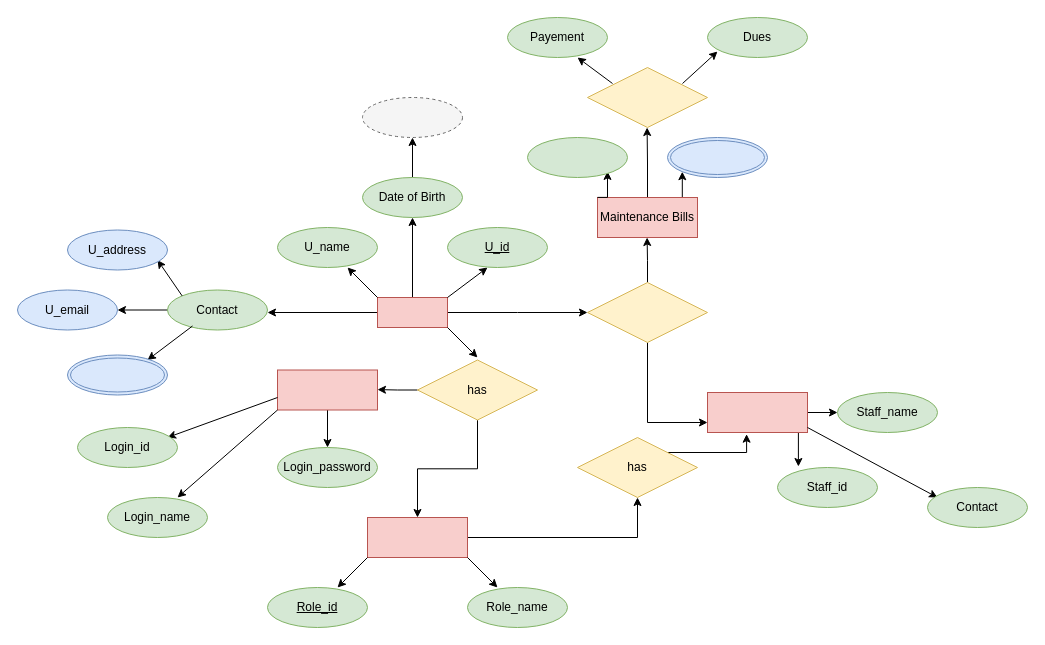
Image size: 1045x645. Some labels were removed from this diagram. The centre of each missing label's shape, as x and y in pixels:
"Age" belongs at pixel 412 117.
"Handle" belongs at pixel 647 312.
"is" belongs at pixel 647 97.
"Login" belongs at pixel 327 389.
"M_id" belongs at pixel 577 157.
"M_no" belongs at pixel 717 157.
"Roles" belongs at pixel 417 537.
"Salary" belongs at pixel 757 412.
"U_Phno" belongs at pixel 117 374.
"Users" belongs at pixel 412 312.
